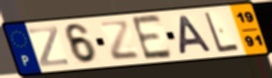6: (63, 22, 100, 66)
A: (177, 14, 215, 56)
E: (129, 13, 175, 63)
L: (203, 11, 242, 55)
Z: (27, 25, 71, 69), (97, 20, 142, 63)
